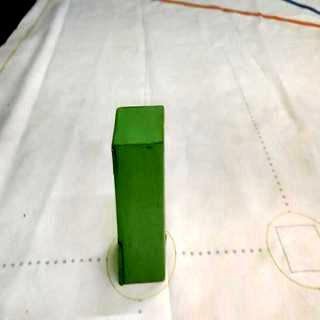greenbox: (110, 106, 168, 286)
